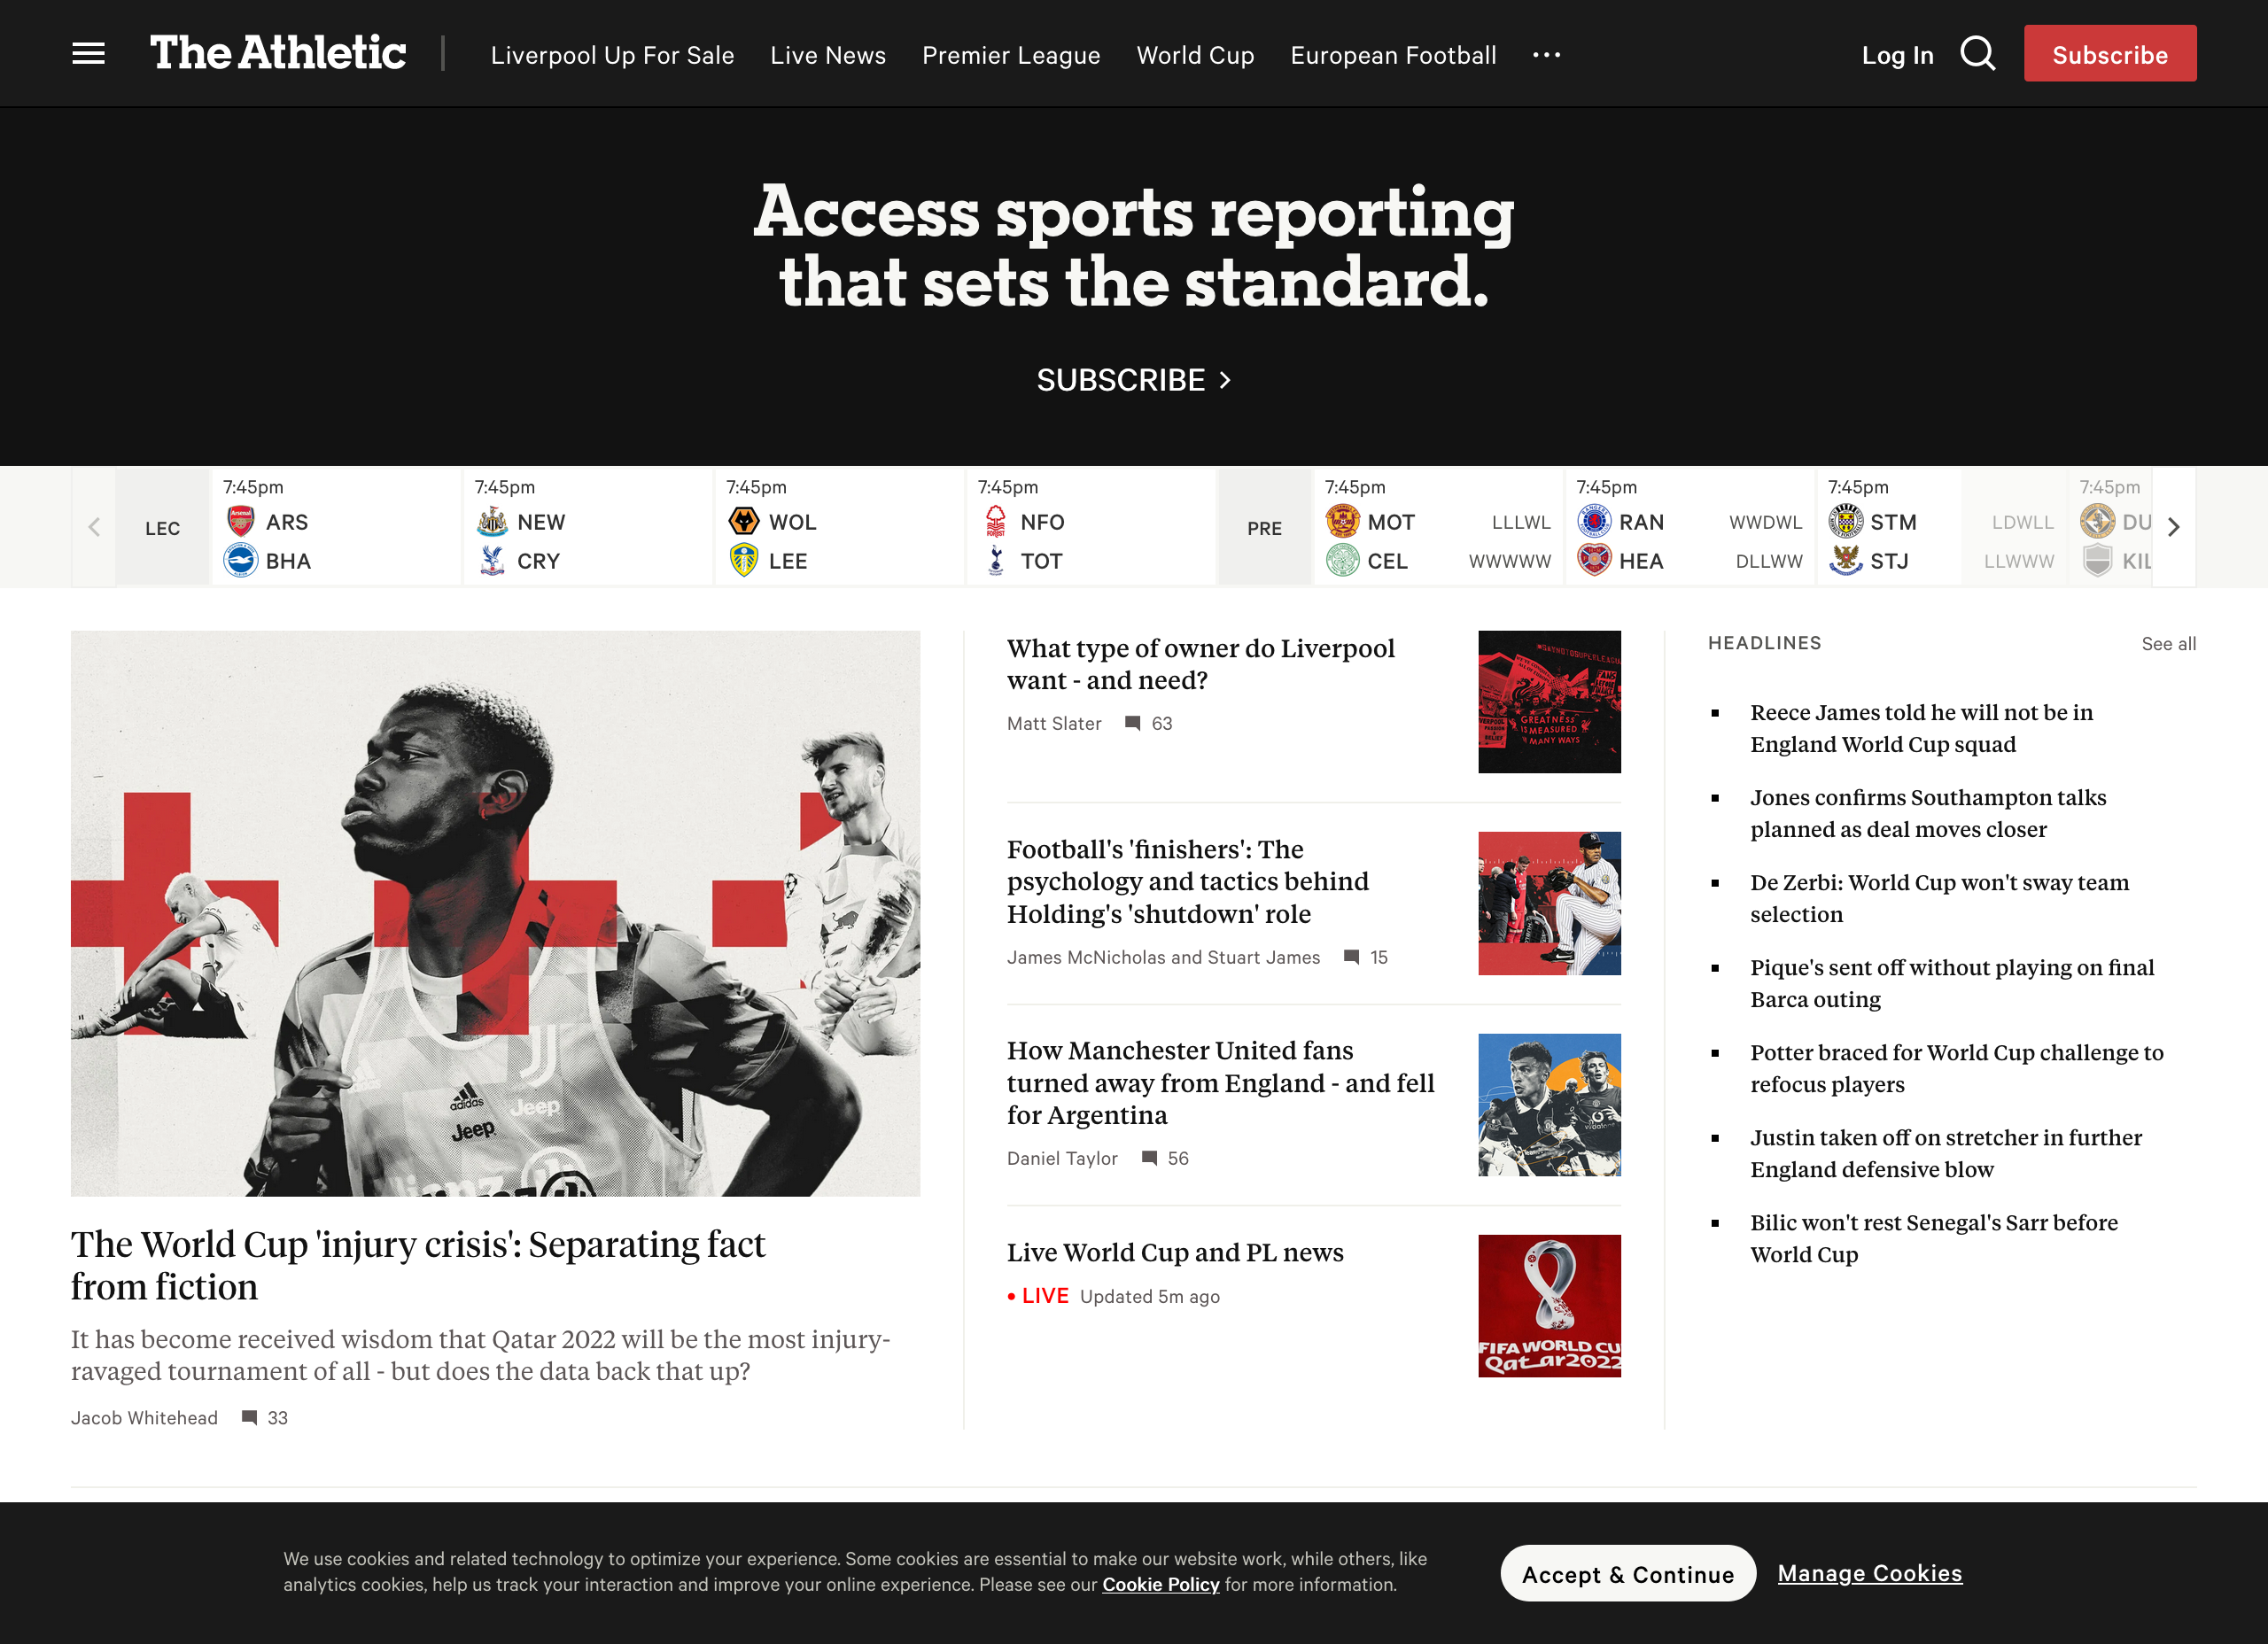Login: (1852, 33, 1948, 83)
